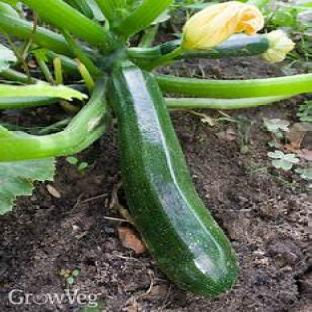Zucchini: (111, 63, 237, 296), (177, 35, 269, 59)
